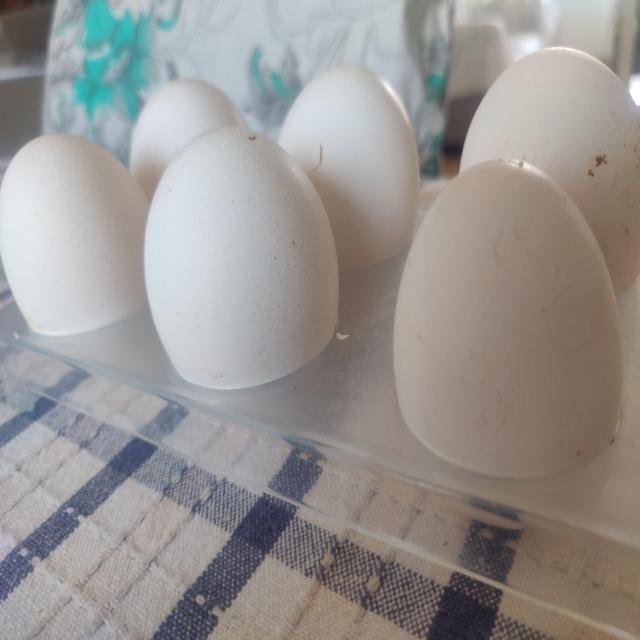Egg: (394, 160, 624, 478), (144, 126, 339, 389), (461, 46, 640, 293), (0, 133, 149, 335), (278, 64, 419, 270), (130, 78, 246, 200)
